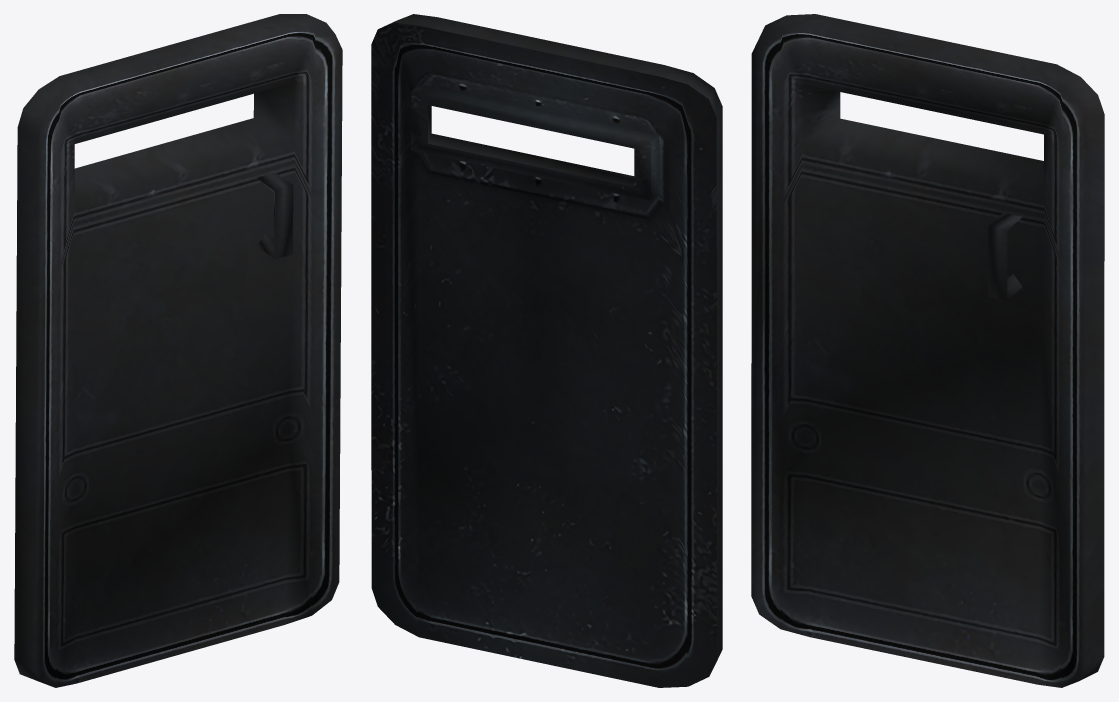
File: riot_shield.glb
3 renders of one model, left to right at view 1: azimuth 30°, elevation 25°; view 2: azimuth 150°, elevation 25°; view 3: azimuth 330°, elevation 25°, orthographic. The views are drawn at different scales.
Parts seen in each view (by area): view 1: 00D_16_shield_back_0; view 2: 00D_16_shield_back_0; view 3: 00D_16_shield_back_0.
Part boxes in pixels (<box>): 00D_16_shield_back_0: <box>14,14,342,687</box>; 00D_16_shield_back_0: <box>371,14,722,687</box>; 00D_16_shield_back_0: <box>751,14,1104,687</box>.
Bounding box in the file's own units: 0.5332 × 0.9281 × 0.1144.
Materials: 2 (2 with a texture image).
